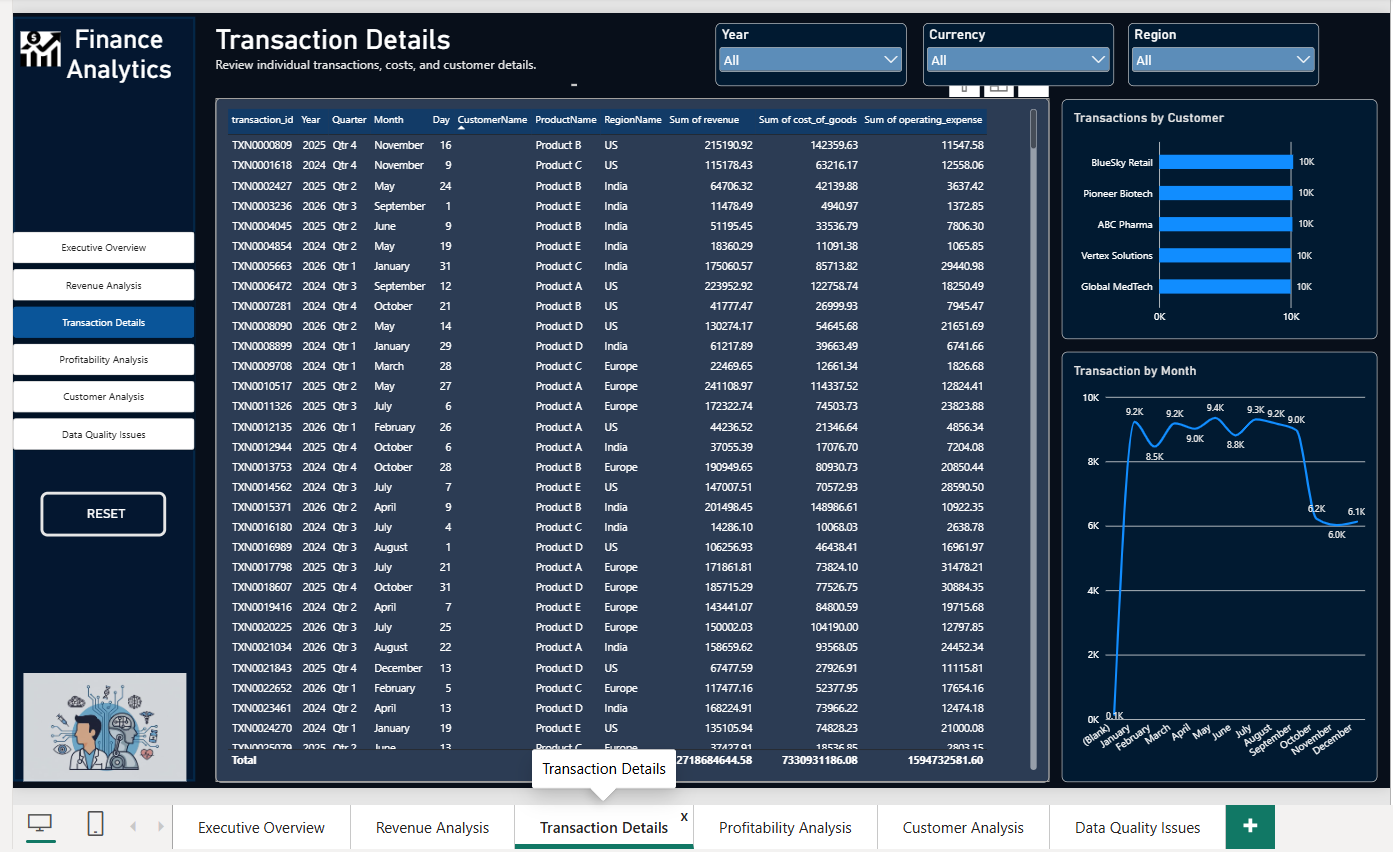

This screenshot's page, from the dashboard's own definition file:
{"tool":"powerbi","page":{"name":"Transaction Details","canvas":[1920,1080],"ordinal":2},"visuals":[{"type":"shape","box":[0,6,254,1066],"z":0},{"type":"pageNavigator","box":[0,305.1,253.2,305.1],"z":2000},{"type":"textbox","title":"Transaction Details","box":[282,14,504,88],"z":3000},{"type":"tableEx","fields":{"Values":["dw FactTransactions.transaction_id","dw DimDate.FullDate.Variation.Date Hierarchy.Year","dw DimDate.FullDate.Variation.Date Hierarchy.Quarter","dw DimDate.FullDate.Variation.Date Hierarchy.Month","dw DimDate.FullDate.Variation.Date Hierarchy.Day","dw DimCustomer.CustomerName","dw DimProduct.ProductName","dw DimRegion.RegionName","Sum(dw FactTransactions.revenue)","Sum(dw FactTransactions.cost_of_goods)","Sum(dw FactTransactions.operating_expense)"]},"box":[282,118,1162,954],"z":4000},{"type":"slicer","fields":{"Values":["dw DimDate.FullDate.Variation.Date Hierarchy.Year"]},"box":[980,14,266,88],"z":5000},{"type":"slicer","fields":{"Values":["dw DimCurrency.CurrencyCode"]},"box":[1268,14,266,88],"z":6000},{"type":"slicer","fields":{"Values":["dw DimRegion.RegionName"]},"box":[1554,14,266,88],"z":7000},{"type":"clusteredBarChart","title":"Transactions by Customer","fields":{"Category":["dw DimCustomer.CustomerName"],"Y":["Measures (2).Transaction Rows"]},"box":[1462,120,440,334],"z":8000},{"type":"lineChart","title":"Transaction by Month","fields":{"Category":["dw DimDate.FullDate.Variation.Date Hierarchy.Month"],"Y":["Measures (2).Transaction Rows"]},"box":[1462,472,440,600],"z":9000},{"type":"image","box":[10.8,21.6,56.3,58.4],"z":9001},{"type":"textbox","title":"Finance Analytics","box":[21.6,6.5,254,90],"z":9002},{"type":"actionButton","title":"RESET","box":[39,666.6,175.3,62.8],"z":9003},{"type":"image","box":[2.2,919.8,253.2,151.5],"z":9004}]}

Visuals, with their boxes on the page's 1920x1080 design canvas (x1, y1, x2, y2). These are canvas units, not pixel positions in the 1393x852 screenshot, which may show the page scaled, cropped or inside an application window:
shape: left=0, top=6, right=254, bottom=1072
pageNavigator: left=0, top=305, right=253, bottom=610
"Transaction Details" textbox: left=282, top=14, right=786, bottom=102
tableEx - dw FactTransactions.transaction_id x dw DimDate.FullDate.Variation.Date Hierarchy.Year: left=282, top=118, right=1444, bottom=1072
slicer - dw DimDate.FullDate.Variation.Date Hierarchy.Year: left=980, top=14, right=1246, bottom=102
slicer - dw DimCurrency.CurrencyCode: left=1268, top=14, right=1534, bottom=102
slicer - dw DimRegion.RegionName: left=1554, top=14, right=1820, bottom=102
"Transactions by Customer" clusteredBarChart: left=1462, top=120, right=1902, bottom=454
"Transaction by Month" lineChart: left=1462, top=472, right=1902, bottom=1072
image: left=11, top=22, right=67, bottom=80
"Finance Analytics" textbox: left=22, top=6, right=276, bottom=96
"RESET" actionButton: left=39, top=667, right=214, bottom=729
image: left=2, top=920, right=255, bottom=1071
